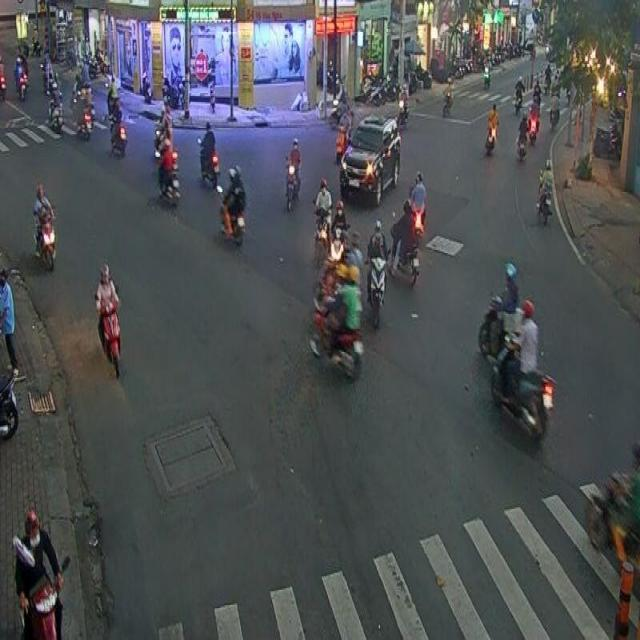car: (338, 112, 400, 206)
motorcycle: (94, 264, 121, 378), (367, 220, 388, 328), (220, 163, 246, 244), (32, 183, 54, 271), (313, 178, 332, 261), (198, 122, 219, 189), (285, 137, 301, 213), (538, 158, 554, 221)
